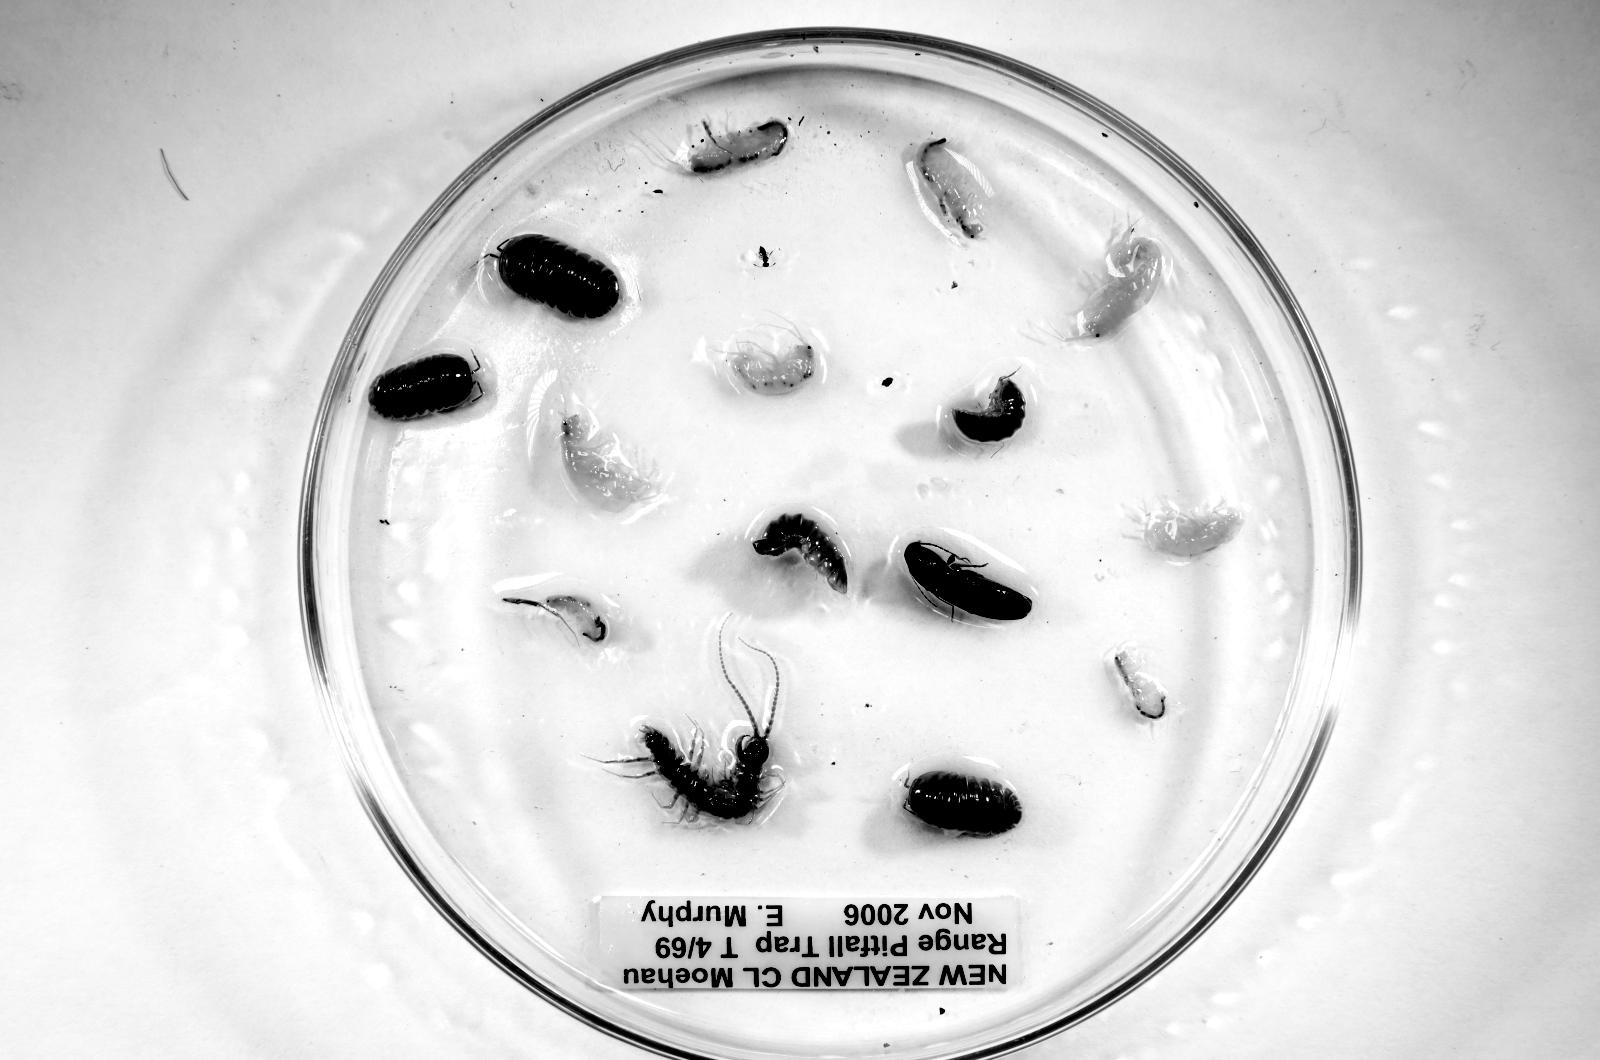amphipoda: (1073, 226, 1164, 339), (561, 412, 659, 512), (912, 139, 988, 239), (1141, 495, 1247, 558), (681, 118, 788, 174), (727, 339, 817, 394), (503, 595, 606, 642), (1109, 642, 1167, 719)
chilopoda: (606, 637, 785, 824)
coleoptera: (905, 541, 1032, 620)
diptera: (757, 246, 771, 268)
isopoda: (496, 234, 621, 318), (902, 770, 1022, 838), (753, 513, 848, 593), (369, 353, 483, 419), (951, 375, 1025, 442)
